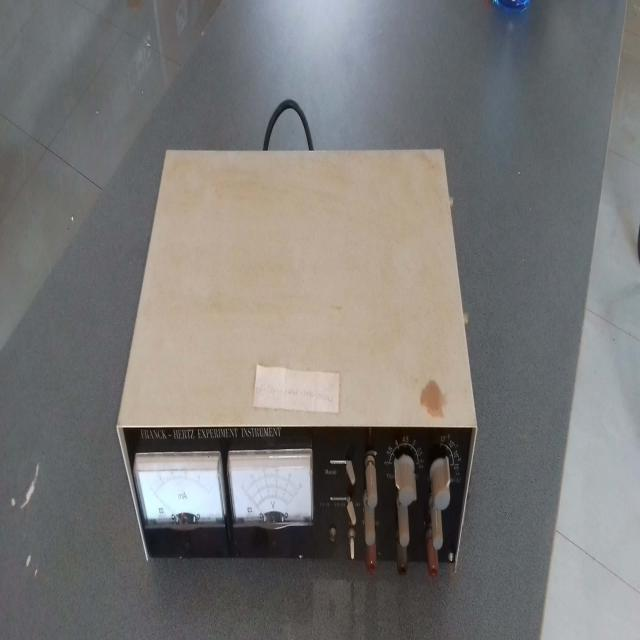Frank-Hertz Experiment Apparatus: (108, 133, 490, 605)
